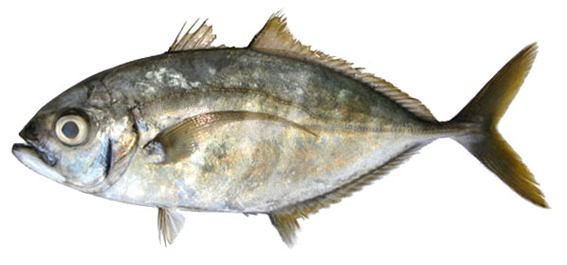fish: (12, 10, 552, 247)
